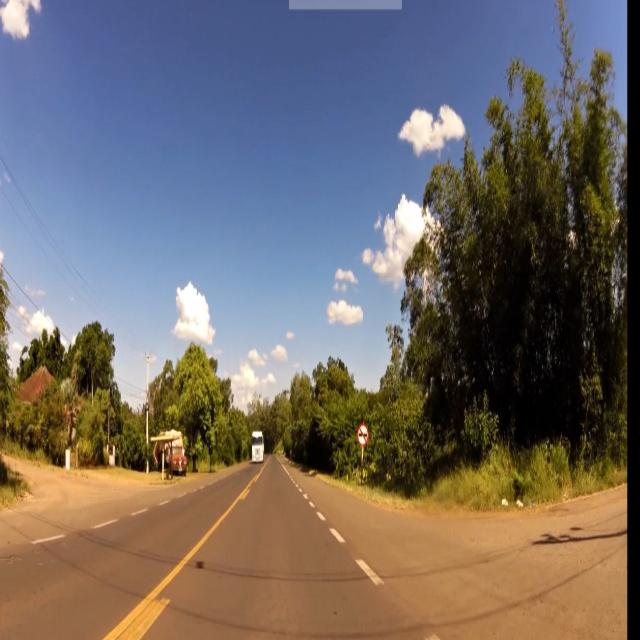R-7: (358, 424, 369, 447)
